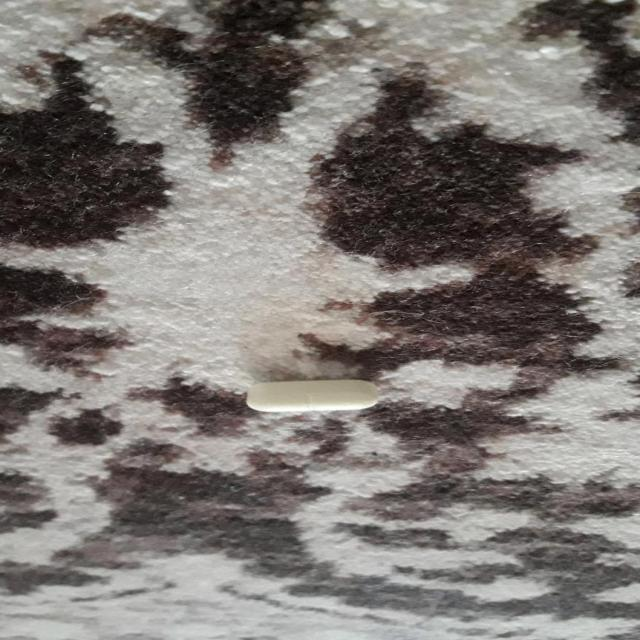pill: (236, 373, 390, 417)
